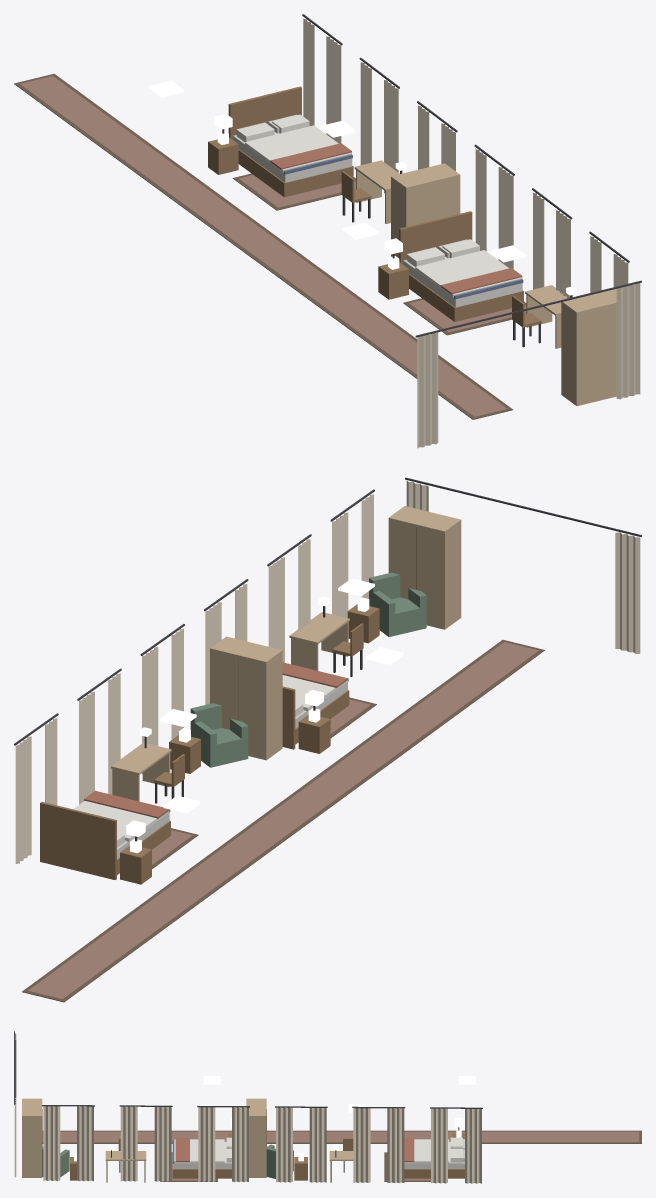
The model's file is fine-s3.glb.
3 renders of one model, top to bottom at view 1: azimuth 30°, elevation 25°; view 2: azimuth 150°, elevation 25°; view 3: azimuth 270°, elevation 25°, orthographic. The views are drawn at different scales.
Parts seen in each view (by area): view 1: soft-s3, dresser.005, bed-frame.004, bed-frame.005, dresser.004, writing-desk.004, writing-desk.005, nightstand.004, nightstand.005, cafe-chair.004, cafe-chair.005; view 2: soft-s3, dresser.005, dresser.004, bed-frame.004, lounge-chair.005, lounge-chair.004, writing-desk.004, writing-desk.005, bed-frame.005, nightstand.005, nightstand.004, side-table.005 (+3 smaller); view 3: soft-s3, dresser.005, dresser.004, bed-frame.004, bed-frame.005, writing-desk.005, side-table.004, lounge-chair.004, writing-desk.004, lounge-chair.005.
Part boxes in pixels (box(x1,y1,x2,y2)): soft-s3: box(14, 14, 641, 448); dresser.005: box(561, 289, 616, 405); bed-frame.004: box(228, 86, 353, 197); bed-frame.005: box(399, 211, 523, 321); dresser.004: box(391, 163, 460, 257); writing-desk.004: box(354, 160, 406, 223); writing-desk.005: box(525, 285, 577, 348); nightstand.004: box(208, 131, 238, 174); nightstand.005: box(378, 256, 408, 299); cafe-chair.004: box(341, 171, 371, 222); cafe-chair.005: box(512, 296, 541, 347); soft-s3: box(14, 477, 641, 1002); dresser.005: box(388, 506, 461, 629); dresser.004: box(210, 636, 282, 760); bed-frame.004: box(40, 802, 170, 879); lounge-chair.005: box(369, 572, 426, 636); lounge-chair.004: box(190, 703, 248, 767); writing-desk.004: box(111, 727, 171, 801); writing-desk.005: box(289, 596, 349, 670); bed-frame.005: box(282, 678, 349, 749); nightstand.005: box(298, 708, 330, 753); nightstand.004: box(120, 838, 151, 884); side-table.005: box(347, 597, 379, 643); soft-s3: box(14, 1031, 641, 1183); dresser.005: box(22, 1098, 42, 1177); dresser.004: box(246, 1098, 266, 1177); bed-frame.004: box(404, 1139, 464, 1178); bed-frame.005: box(172, 1140, 231, 1178); writing-desk.005: box(105, 1145, 146, 1182); side-table.004: box(294, 1152, 307, 1180); lounge-chair.004: box(266, 1144, 293, 1178); writing-desk.004: box(329, 1145, 353, 1182); lounge-chair.005: box(42, 1146, 69, 1177).
Size of the model in its own units: 5.43 by 2.5 by 18.43.
